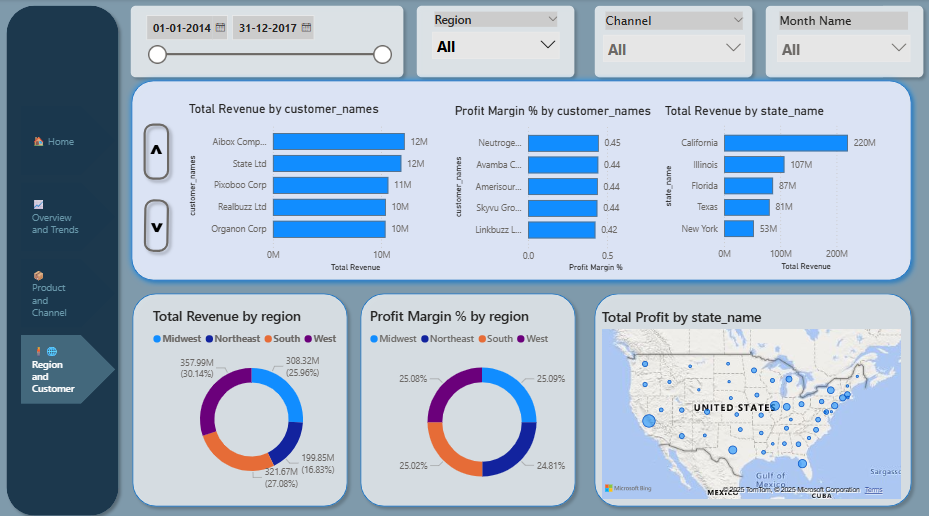

Layout of this report page (visuals, bound fields, positions):
{"tool":"powerbi","page":{"name":"🧍🌐   Region and Customer","canvas":[1280,720],"ordinal":3},"visuals":[{"type":"shape","box":[809.3,396.4,454.2,311.1],"z":0},{"type":"shape","box":[173.4,396.4,313.8,311.1],"z":1000},{"type":"shape","box":[487.2,396.4,313.8,311.1],"z":2000},{"type":"shape","box":[1044.6,0,235.4,117],"z":3000},{"type":"shape","box":[809.3,0,235.4,117],"z":4000},{"type":"shape","box":[564.3,0,235.4,117],"z":5000},{"type":"shape","box":[170.7,0,393.6,117],"z":6000},{"type":"shape","box":[172,103.2,1091.4,293.2],"z":7000},{"type":"slicer","fields":{"Values":["Sales Dashboard.order_date"]},"box":[188.1,11.8,359.5,94.1],"z":8000},{"type":"slicer","fields":{"Values":["Sales Dashboard.region"]},"box":[584.6,11.8,194.9,94.1],"z":9000},{"type":"slicer","fields":{"Values":["Sales Dashboard.channel"]},"box":[819.7,11.8,215,94.1],"z":10000},{"type":"slicer","fields":{"Values":["Sales Dashboard.Month Name"]},"box":[1059.9,11.8,203.3,94.1],"z":11000},{"type":"barChart","fields":{"Category":["Sales Dashboard.customer_names"],"Y":["Custom.Total Revenue"]},"box":[255.2,140.7,365.7,239.1],"z":12000},{"type":"barChart","fields":{"Category":["Sales Dashboard.customer_names"],"Y":["Custom.Profit Margin %"]},"box":[620.9,142.7,305.4,237.1],"z":13000},{"type":"barChart","fields":{"Category":["Sales Dashboard.state_name"],"Y":["Custom.Total Revenue"]},"box":[910.3,142.7,333.6,235.1],"z":14000},{"type":"actionButton","box":[188.6,161.9,53.3,95.2],"z":15000},{"type":"actionButton","box":[188.6,264.8,53.3,95.2],"z":16000},{"type":"donutChart","fields":{"Category":["Sales Dashboard.region"],"Y":["Custom.Total Revenue"]},"box":[205.1,422.5,282.2,258.8],"z":20000},{"type":"donutChart","fields":{"Category":["Sales Dashboard.region"],"Y":["Custom.Profit Margin %"]},"box":[503.7,422.5,319.3,265.6],"z":21000},{"type":"map","fields":{"Category":["Sales Dashboard.state_name"],"Size":["Custom.Total Profit"]},"box":[823.1,423.3,421.6,268.8],"z":22000},{"type":"shape","title":"menu bg","box":[0,0,172,720],"z":23000},{"type":"pageNavigator","title":"menu buttons","box":[29.3,146.7,130.7,412],"z":24000}]}

Visuals, with their boxes on the page's 1280x720 design canvas (x1, y1, x2, y2). These are canvas units, not pixel positions in the 929x516 screenshot, which may show the page scaled, cropped or inside an application window:
shape: l=809, t=396, r=1264, b=708
shape: l=173, t=396, r=487, b=708
shape: l=487, t=396, r=801, b=708
shape: l=1045, t=0, r=1280, b=117
shape: l=809, t=0, r=1045, b=117
shape: l=564, t=0, r=800, b=117
shape: l=171, t=0, r=564, b=117
shape: l=172, t=103, r=1263, b=396
slicer - Sales Dashboard.order_date: l=188, t=12, r=548, b=106
slicer - Sales Dashboard.region: l=585, t=12, r=780, b=106
slicer - Sales Dashboard.channel: l=820, t=12, r=1035, b=106
slicer - Sales Dashboard.Month Name: l=1060, t=12, r=1263, b=106
barChart - Sales Dashboard.customer_names x Custom.Total Revenue: l=255, t=141, r=621, b=380
barChart - Sales Dashboard.customer_names x Custom.Profit Margin %: l=621, t=143, r=926, b=380
barChart - Sales Dashboard.state_name x Custom.Total Revenue: l=910, t=143, r=1244, b=378
actionButton: l=189, t=162, r=242, b=257
actionButton: l=189, t=265, r=242, b=360
donutChart - Sales Dashboard.region x Custom.Total Revenue: l=205, t=422, r=487, b=681
donutChart - Sales Dashboard.region x Custom.Profit Margin %: l=504, t=422, r=823, b=688
map - Sales Dashboard.state_name x Custom.Total Profit: l=823, t=423, r=1245, b=692
"menu bg" shape: l=0, t=0, r=172, b=720
"menu buttons" pageNavigator: l=29, t=147, r=160, b=559
